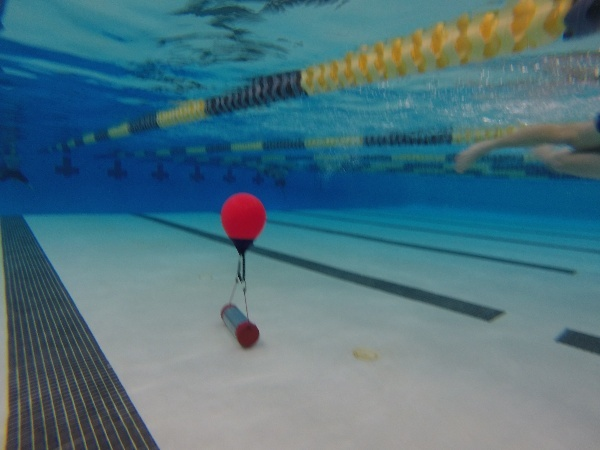buoy_red: (216, 191, 270, 257)
